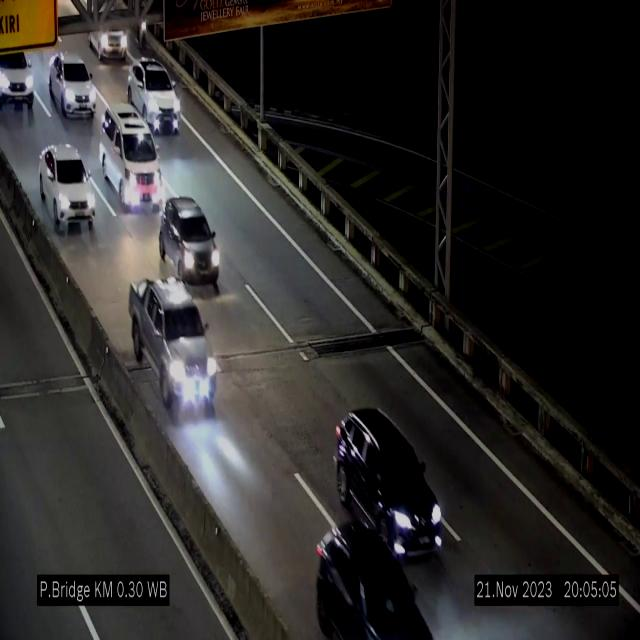Car: (336, 408, 443, 558), (128, 274, 218, 409), (99, 102, 159, 206), (160, 194, 220, 290), (40, 141, 100, 234), (128, 57, 180, 132), (50, 55, 96, 120)
